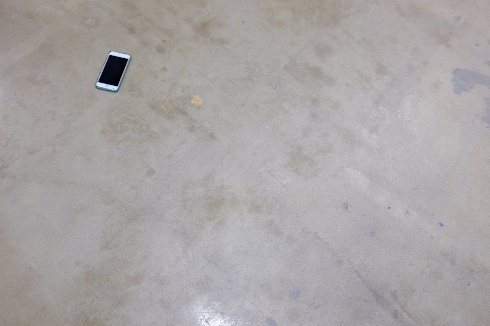phone: (91, 56, 140, 88)
